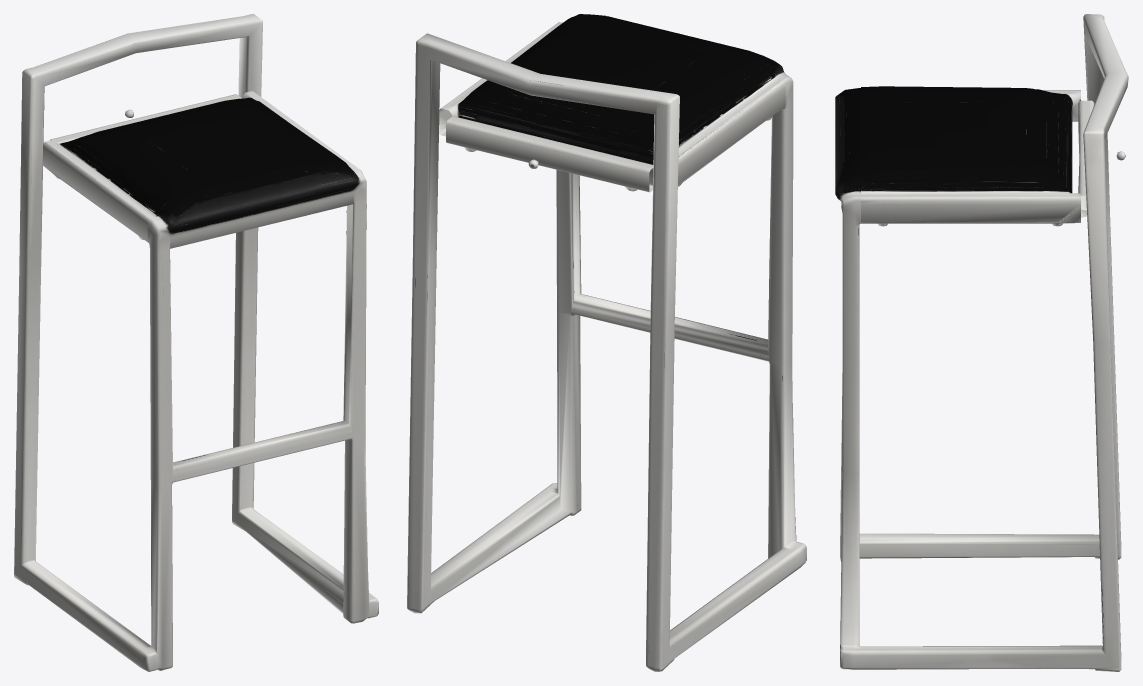
Rendered from White_Frame_Black_Pad_0404163740_texture.glb.
3 renders of one model, left to right at view 1: azimuth 30°, elevation 25°; view 2: azimuth 150°, elevation 25°; view 3: azimuth 270°, elevation 25°, orthographic. The views are drawn at different scales.
Parts seen in each view (by area): view 1: Mesh_0.002; view 2: Mesh_0.002; view 3: Mesh_0.002.
Boxes of the visible parts, bbox=[...] form: Mesh_0.002: bbox=[14, 14, 378, 671]; Mesh_0.002: bbox=[407, 14, 806, 671]; Mesh_0.002: bbox=[835, 14, 1128, 671].
Size of the model in its own units: 0.506 by 1.07 by 0.5235.
Materials: 1 (1 with a texture image).
